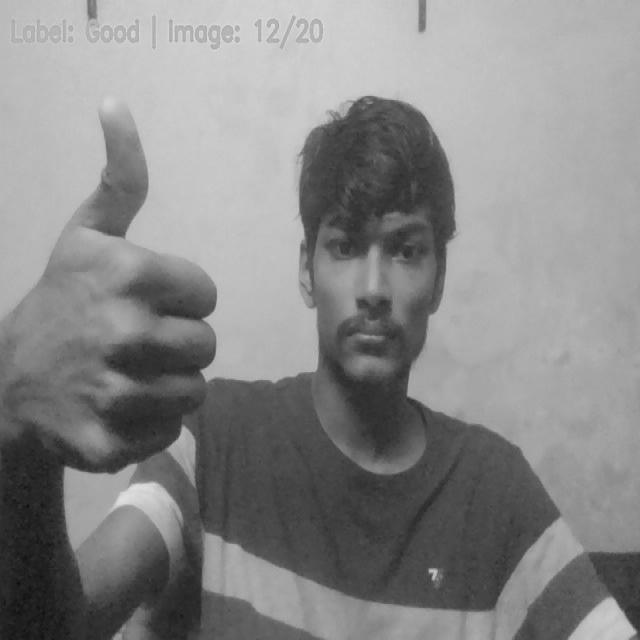Good: (10, 94, 219, 477)
